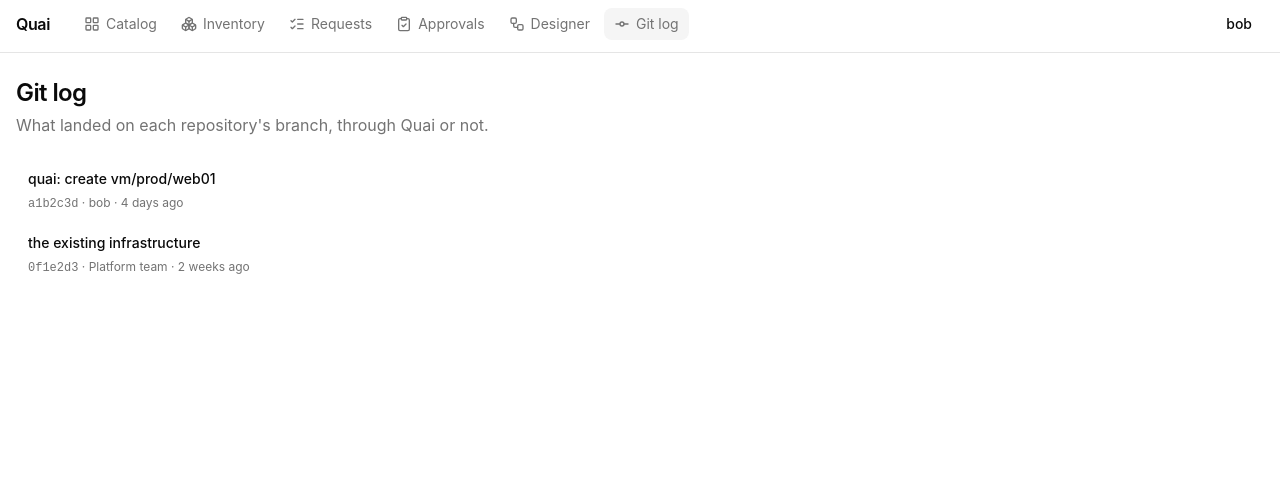
Scenario: the Git log shows a repository's commits and each commit's patch
Click the link "quai: create vm/prod/web01 a1b2c3d · bob · 4 days ago".
click(122, 178)  # box top-left (28, 170), bottom-right (216, 211)
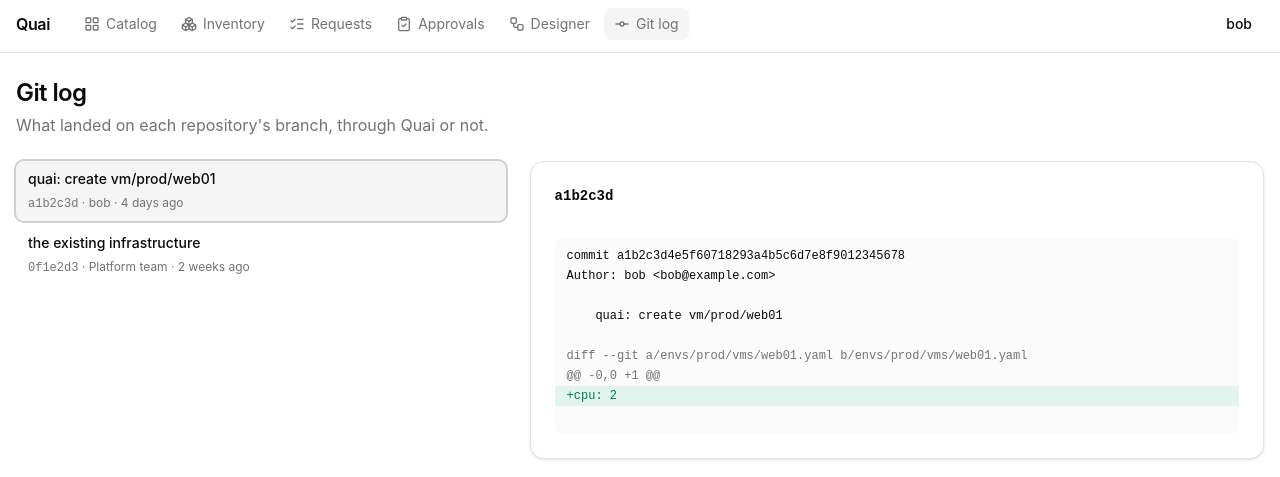
Check: the element labelled "commit a1b2c3d" shows "Author: bob", box top-left (567, 269), bottom-right (775, 283)
Check: the text "+cpu: 2" is shown, box top-left (555, 386), bottom-right (1239, 406)
